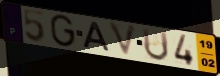4: (173, 33, 196, 67)
5: (23, 8, 46, 44)
A: (82, 20, 112, 53)
G: (49, 13, 76, 48)
U: (141, 27, 170, 62)
V: (107, 21, 139, 60)
